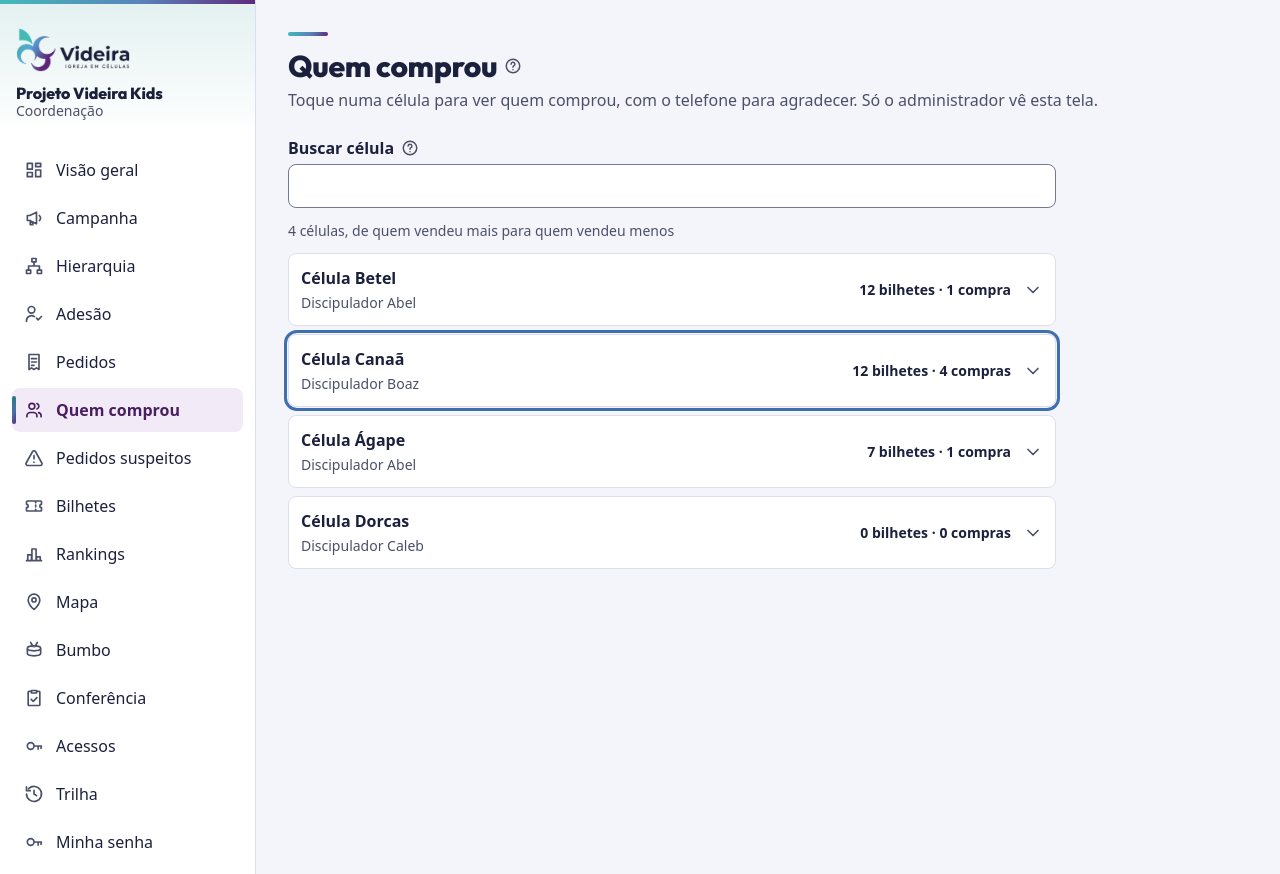
Test: Quem comprou (só o admin) › tocar no cartão abre as compras ali mesmo (com a célula na URL): nome, quando, bilhetes, telefone com WhatsApp e 'atribuída à mão'; 'Ver mais' e 'Abrir em Pedid
expect the heading "Quem comprou" is shown: met, box [288,48,497,84]
Click the button "Célula Canaã Discipulador Boaz 12 bilhetes · 4 compras": click(353, 359) [289,335,1055,406]
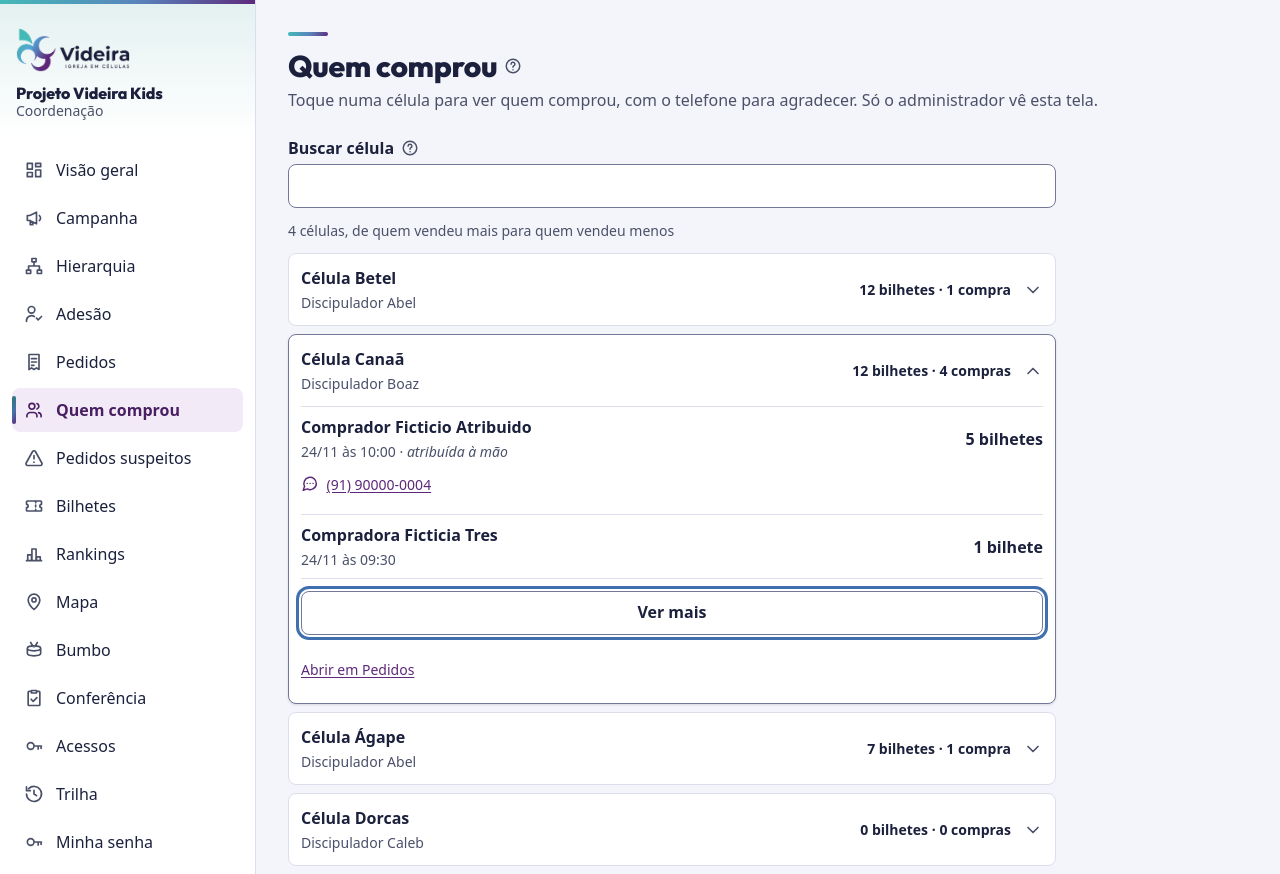
expect the text "Comprador Ficticio Atribuido" is shown: met, box [301,416,532,438]
expect the list items read "Comprador Ficticio Atribuido 24/11 às 10:00 · atribuída à mão 5 bilhetes (91) 90000-0004 (abre o WhatsApp em outra aba)", "Compradora Ficticia Tres 24/11 às 09:30 1 bilhete", in this order: met, box [301,407,1043,515]; [301,515,1043,579]
Click the button "Ver mais": click(672, 613) [301,591,1043,635]
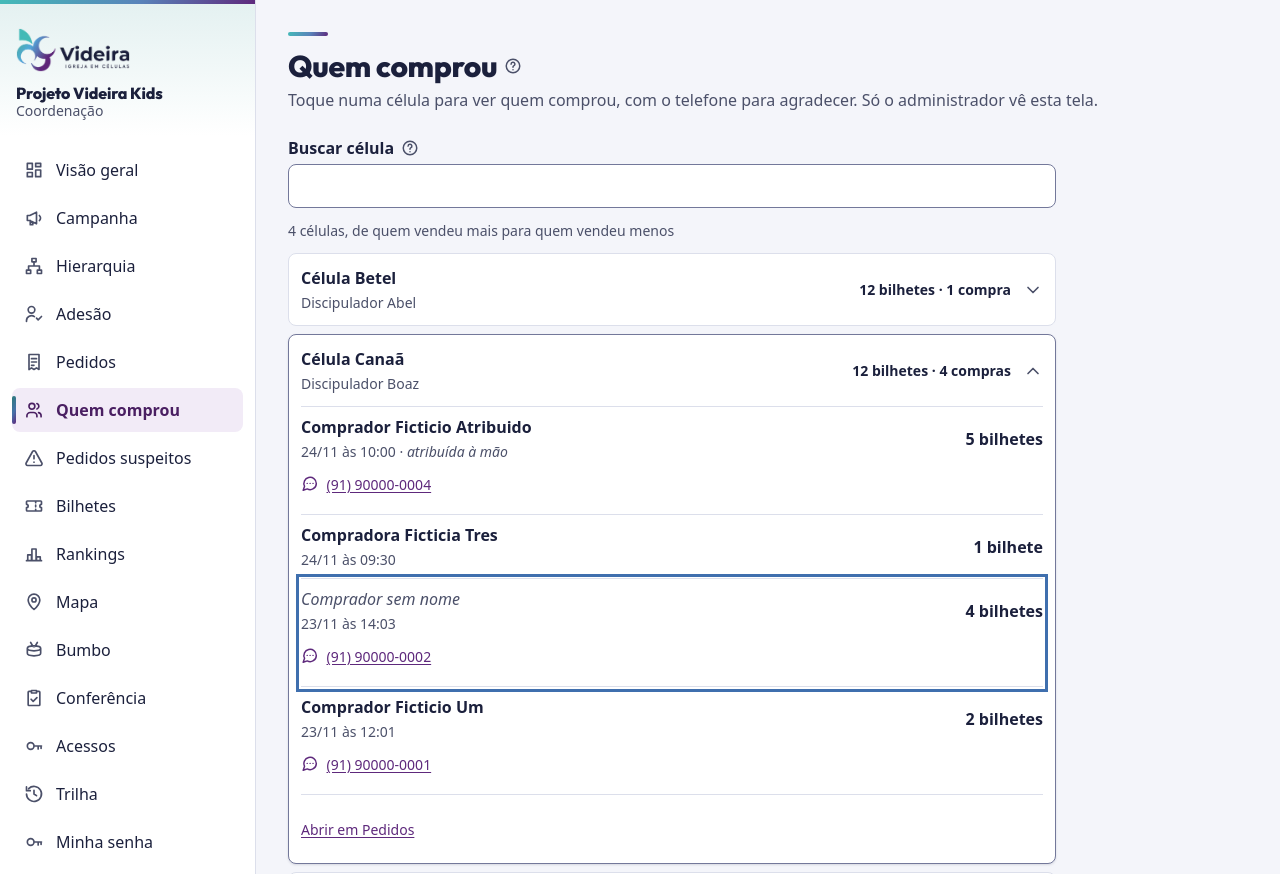
expect the text "Comprador sem nome" is shown: met, box [301,588,460,610]
expect the list item "Comprador sem nome 23/11 às 14:03 4 bilhetes (91) 90000-0002" is shown: met, box [301,579,1043,687]
expect the button "Ver mais" is gone: met
